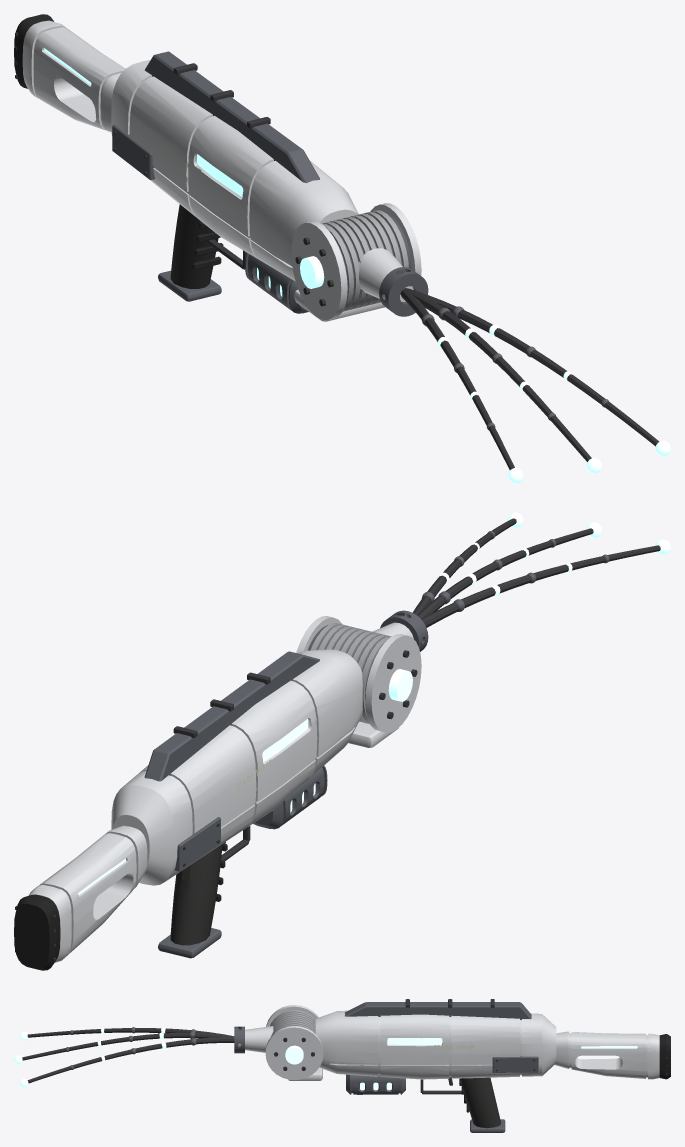
File: sparkwhip.glb
3 views of the same model, one above another, from view 1: azimuth 30°, elevation 25°; view 2: azimuth 150°, elevation 25°; view 3: azimuth 270°, elevation 25° (orthographic). The views are drawn at different scales.
Visible parts, largest first — view 1: Body; view 2: Body; view 3: Body.
Part boxes in pixels (x1=…): Body: x1=14, y1=14, x2=670, y2=483; Body: x1=14, y1=512, x2=670, y2=970; Body: x1=14, y1=999, x2=670, y2=1132.
Bounding box in the file's own units: 0.1521 × 0.1977 × 0.9285.
